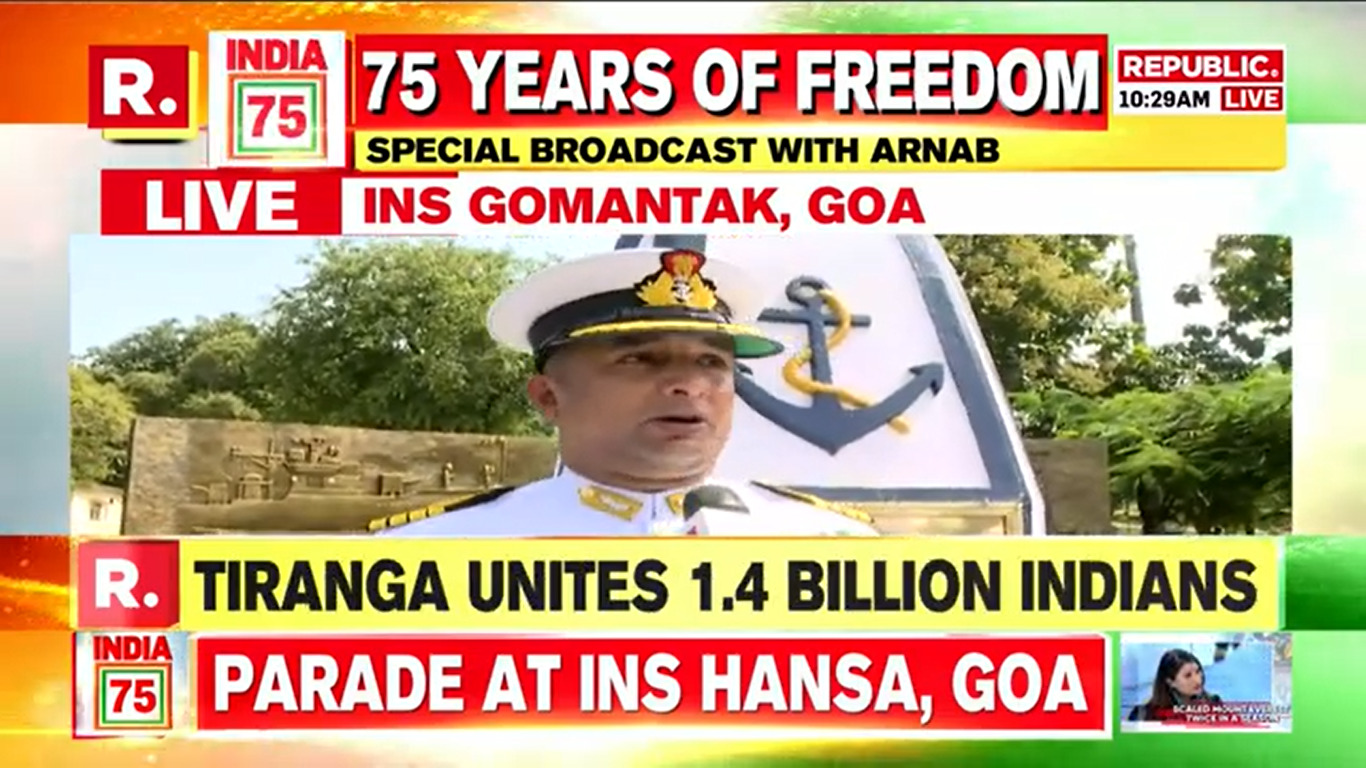Indi75: (203, 35, 350, 166), (74, 634, 180, 744)
person: (409, 249, 882, 541)
